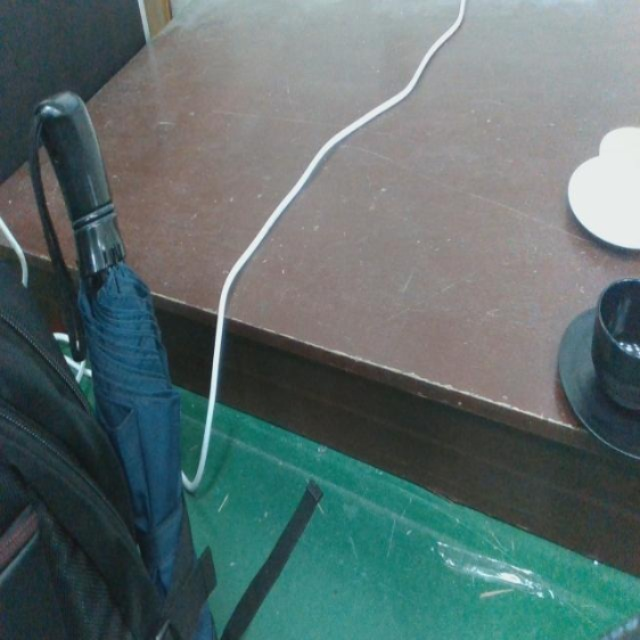black: (554, 272, 640, 471)
white: (565, 121, 640, 255)
